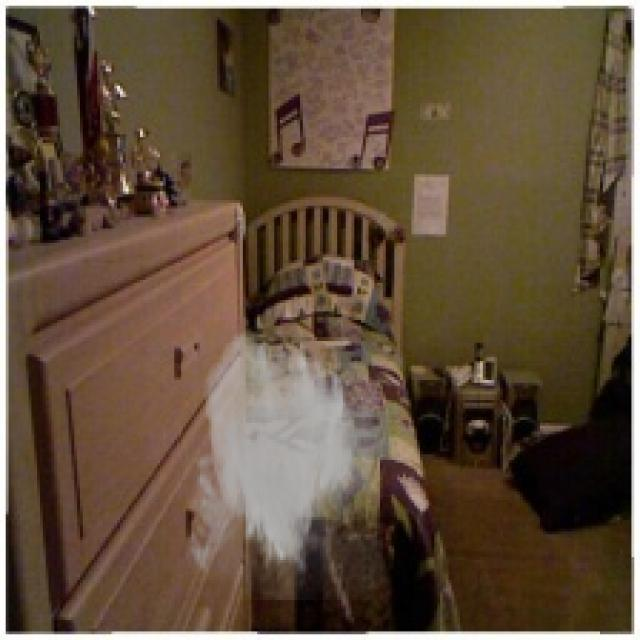smoke: (183, 326, 383, 600)
